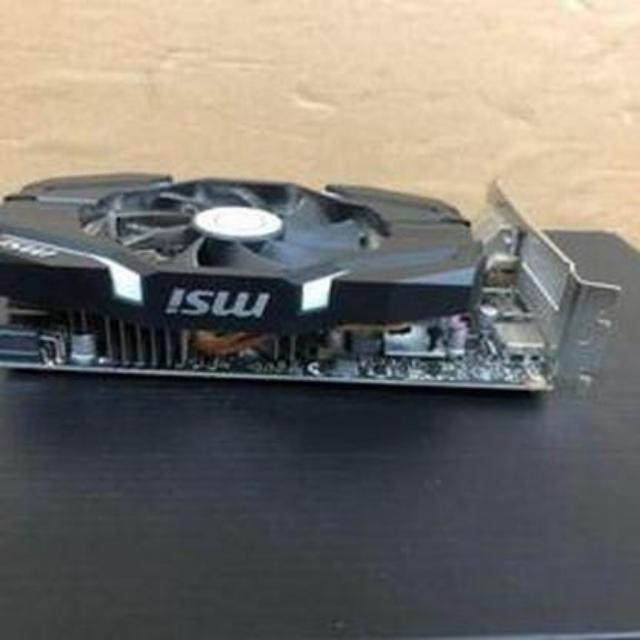GPU: (0, 152, 605, 422)
